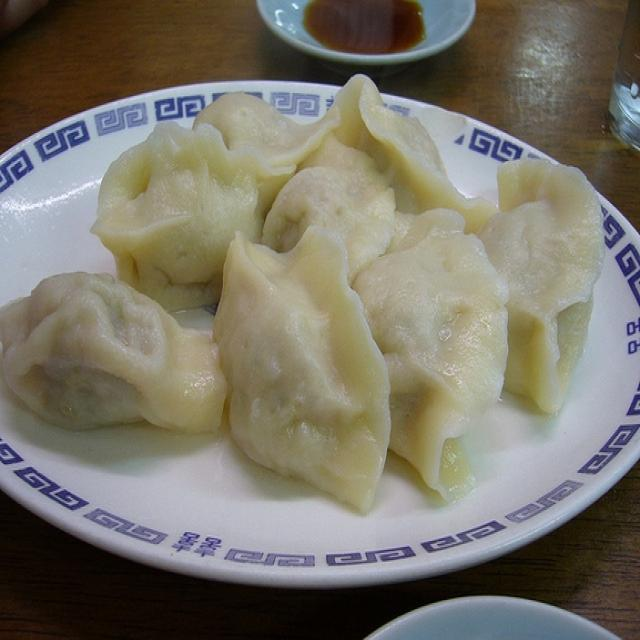带馅早点: (13, 41, 619, 581)
